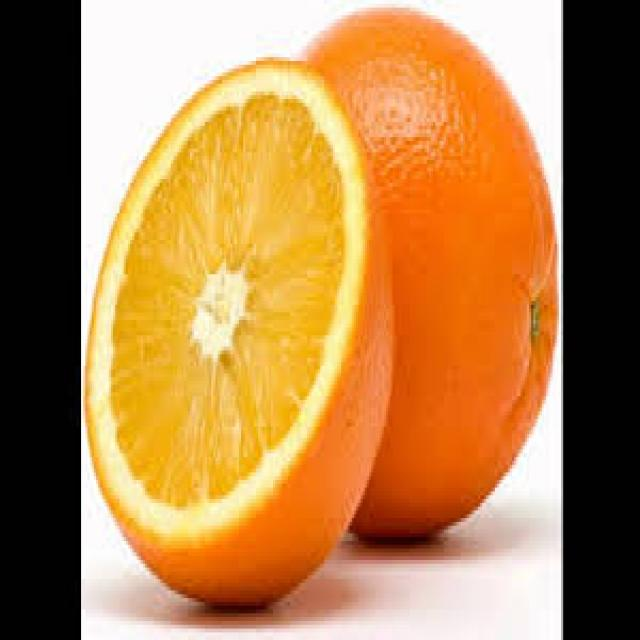organic waste: (83, 57, 393, 602), (301, 4, 557, 545)
